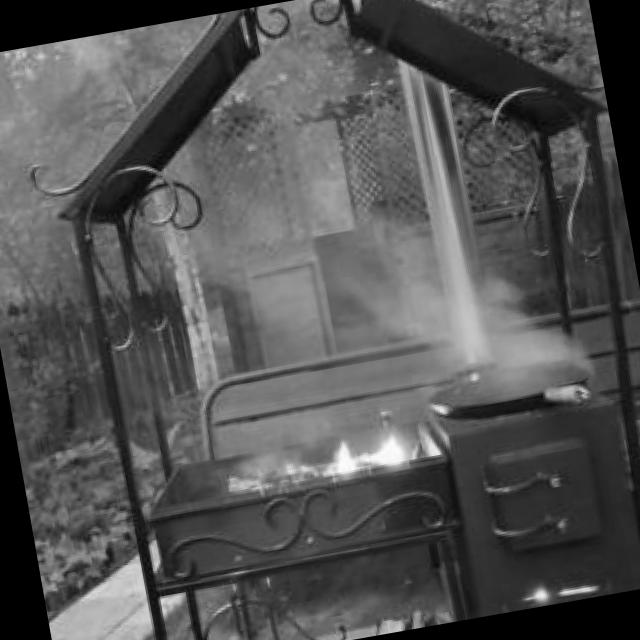fire: (300, 422, 410, 488)
smoke: (338, 228, 600, 422)
